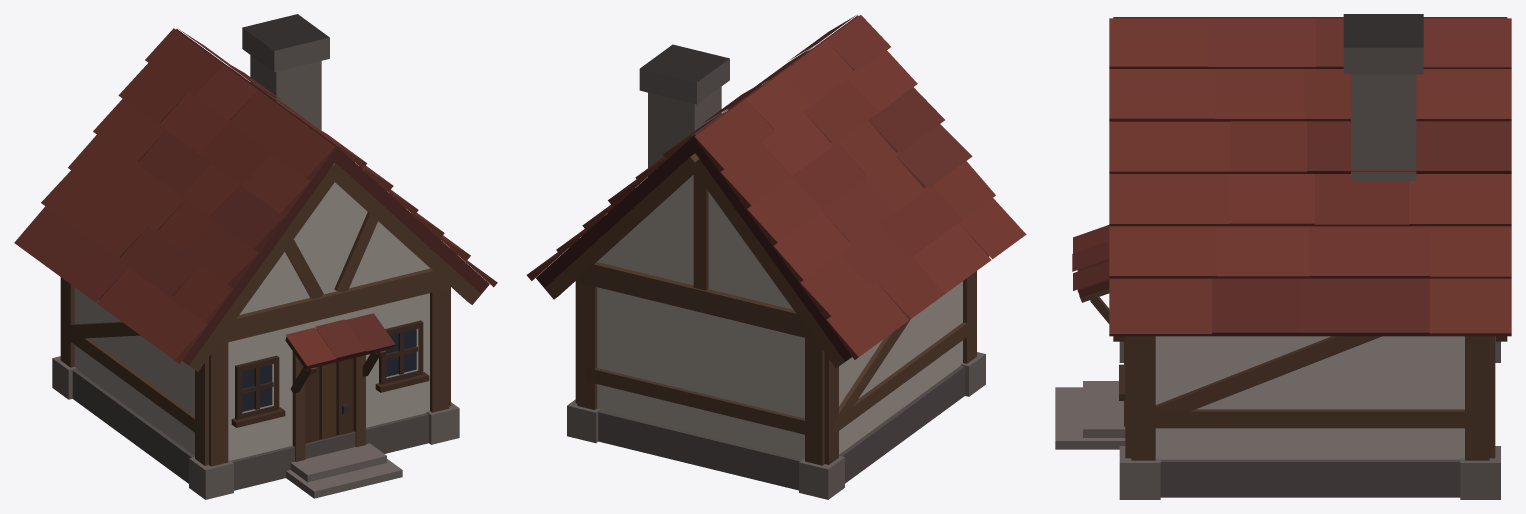
Rendered from homeA.glb.
3 views of the same model, side by side, from view 1: azimuth 30°, elevation 25°; view 2: azimuth 150°, elevation 25°; view 3: azimuth 270°, elevation 25° (orthographic). The views are drawn at different scales.
Visible parts, largest first — view 1: lit; view 2: lit; view 3: lit.
Part boxes in pixels (x1=…): lit: x1=14, y1=14, x2=497, y2=499; lit: x1=526, y1=14, x2=1026, y2=499; lit: x1=1055, y1=14, x2=1511, y2=499.
Size of the model in its own units: 5.74 by 5.8 by 5.6.
